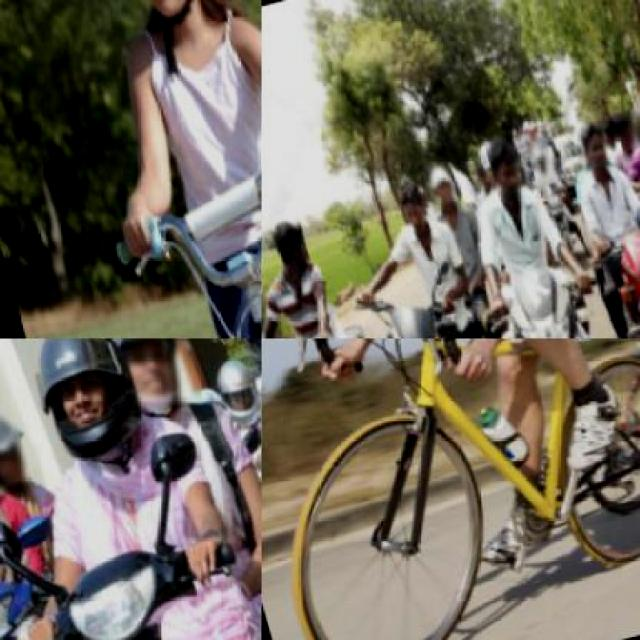With Helmet: (14, 338, 151, 469), (92, 339, 205, 423), (75, 0, 234, 43), (205, 349, 260, 437), (0, 395, 34, 503)
Without Helmet: (384, 170, 436, 245), (566, 114, 620, 184), (479, 131, 526, 206), (262, 208, 310, 277), (416, 155, 458, 216), (521, 138, 557, 190), (610, 112, 638, 157), (624, 106, 638, 159)
